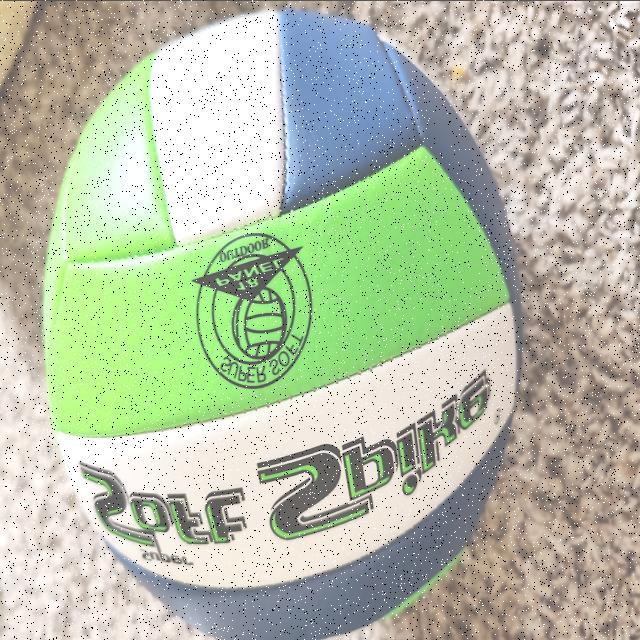ball: (40, 0, 522, 640)
